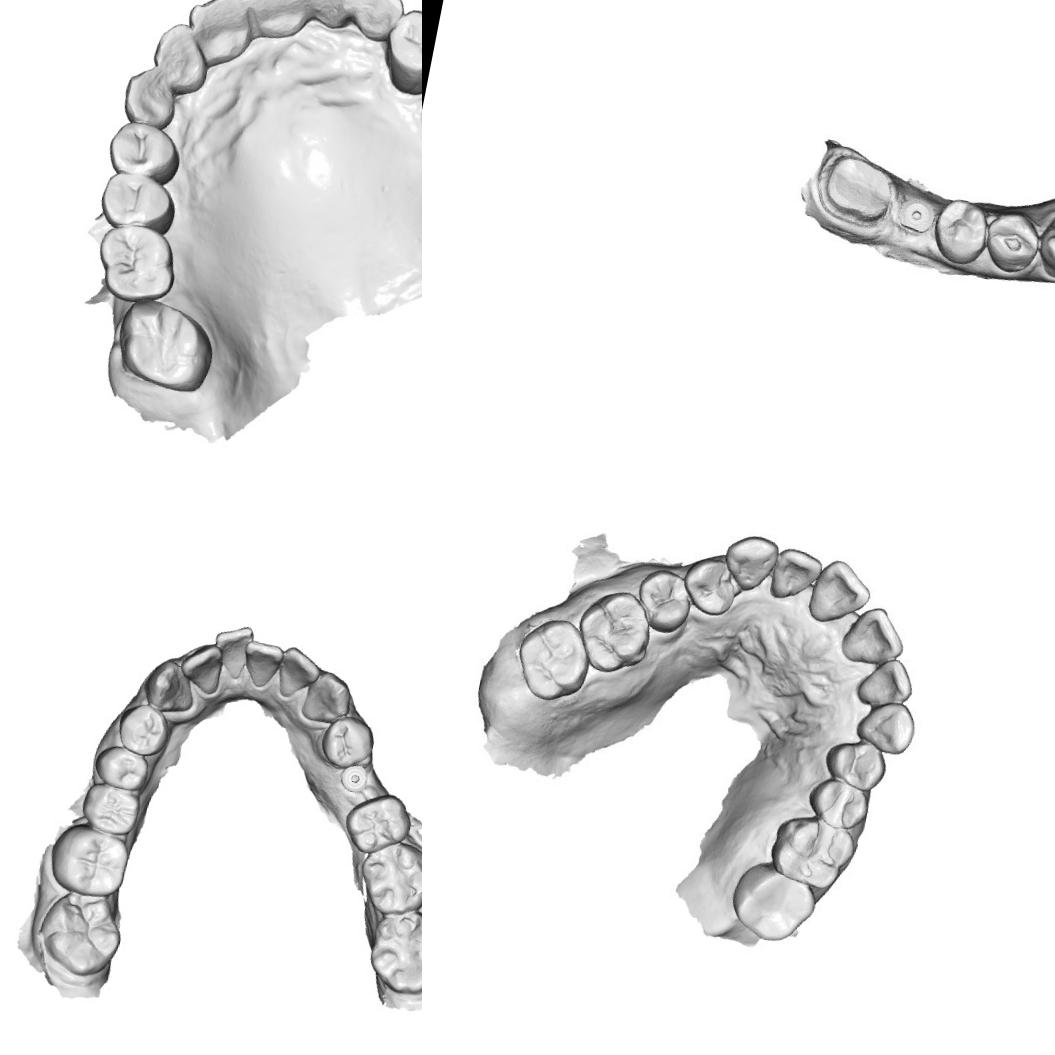canine: (118, 63, 185, 133), (852, 694, 920, 758), (719, 529, 780, 594), (141, 655, 202, 717), (298, 666, 356, 728), (345, 0, 406, 44), (1032, 208, 1055, 281)
crown: (816, 148, 904, 226)
implant: (894, 192, 940, 241), (336, 761, 372, 795)
incisor: (145, 16, 216, 96), (177, 0, 258, 68), (837, 600, 916, 668), (806, 559, 869, 629), (852, 650, 917, 711), (232, 0, 313, 45), (770, 544, 824, 604), (174, 637, 228, 696), (273, 643, 324, 703), (207, 620, 256, 682), (238, 638, 286, 690), (297, 0, 360, 31)
molar: (109, 294, 218, 395), (30, 884, 129, 982), (724, 856, 820, 950), (88, 218, 182, 310), (764, 808, 859, 894), (507, 612, 593, 706), (42, 818, 134, 902), (572, 586, 655, 678), (352, 833, 422, 921), (337, 785, 417, 862), (361, 903, 422, 1001), (76, 779, 144, 839)
premolar: (100, 116, 186, 188), (94, 167, 180, 233), (926, 194, 995, 269), (816, 730, 893, 796), (980, 207, 1049, 280), (802, 774, 876, 837), (636, 564, 698, 634), (681, 552, 742, 622), (316, 710, 379, 774), (113, 699, 175, 759), (380, 2, 422, 82), (90, 740, 152, 794)
